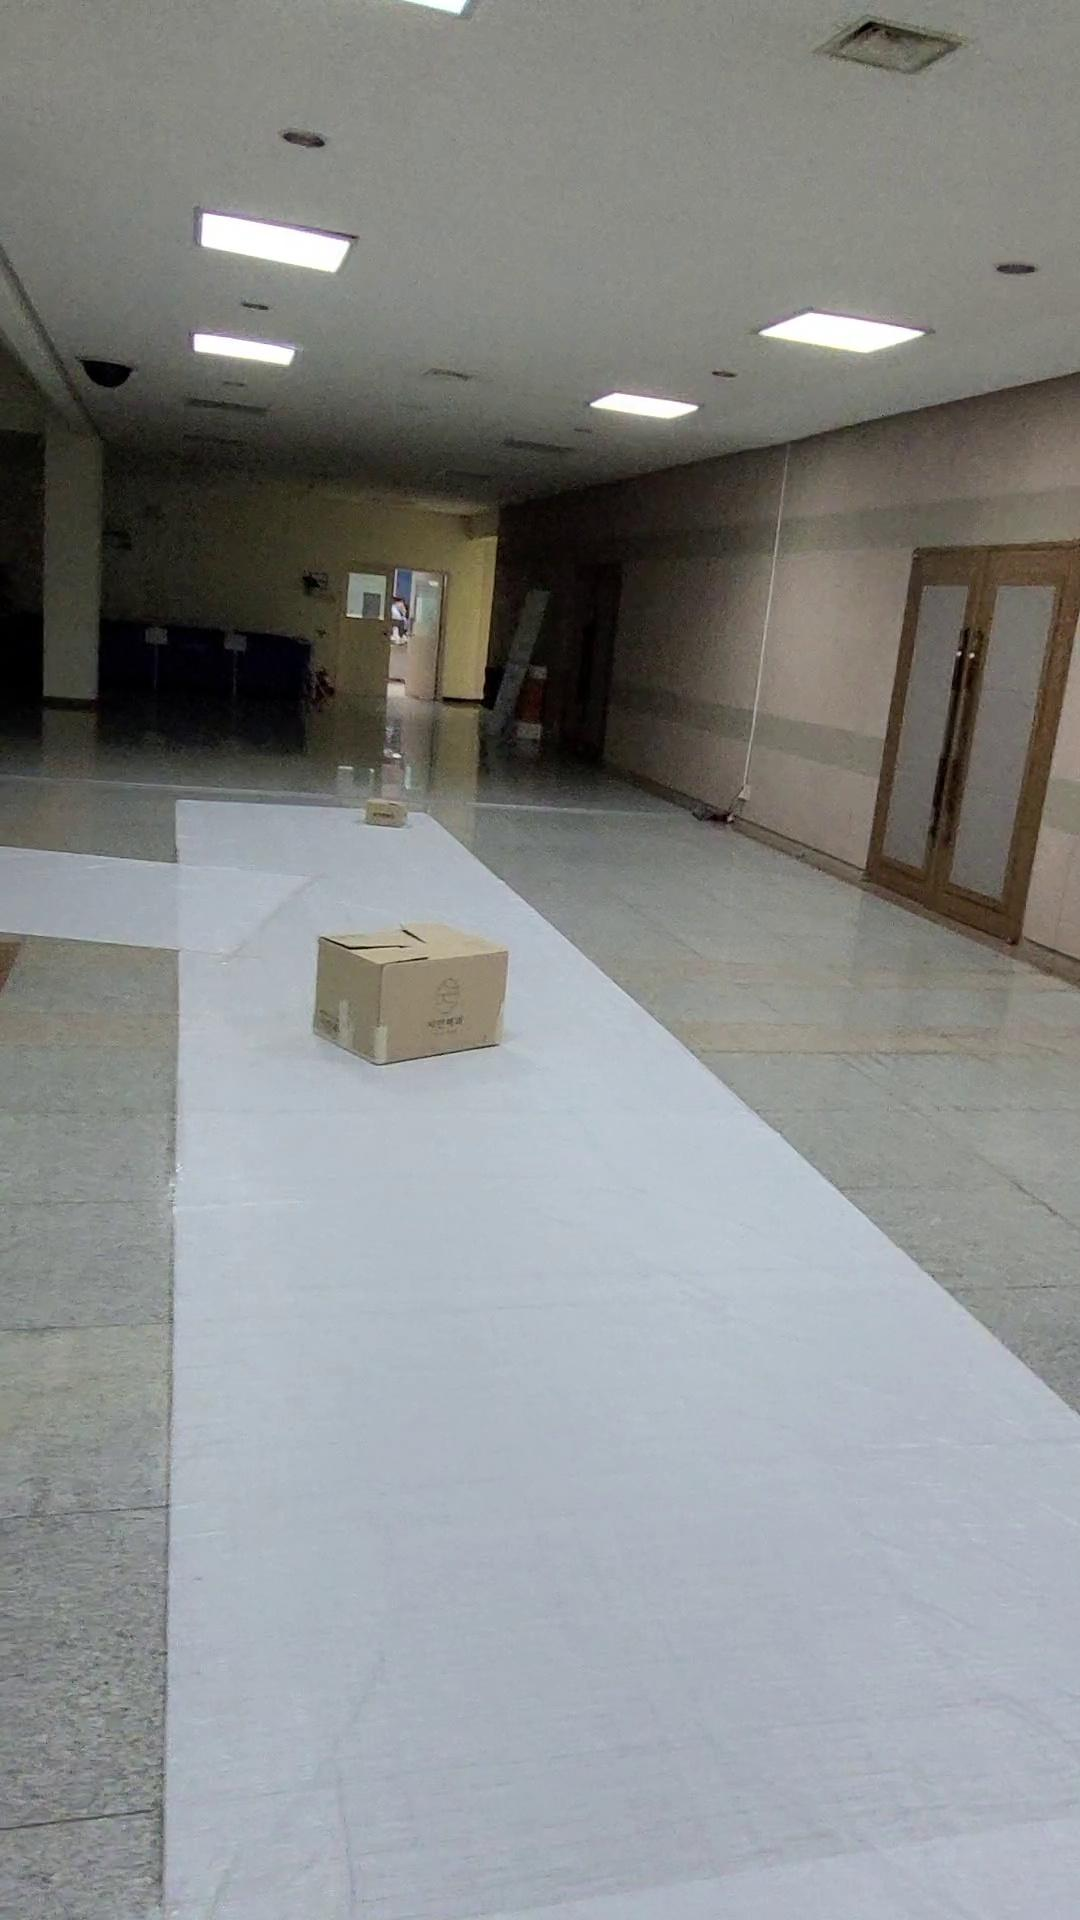Box: (298, 903, 535, 1098), (342, 785, 438, 837)
